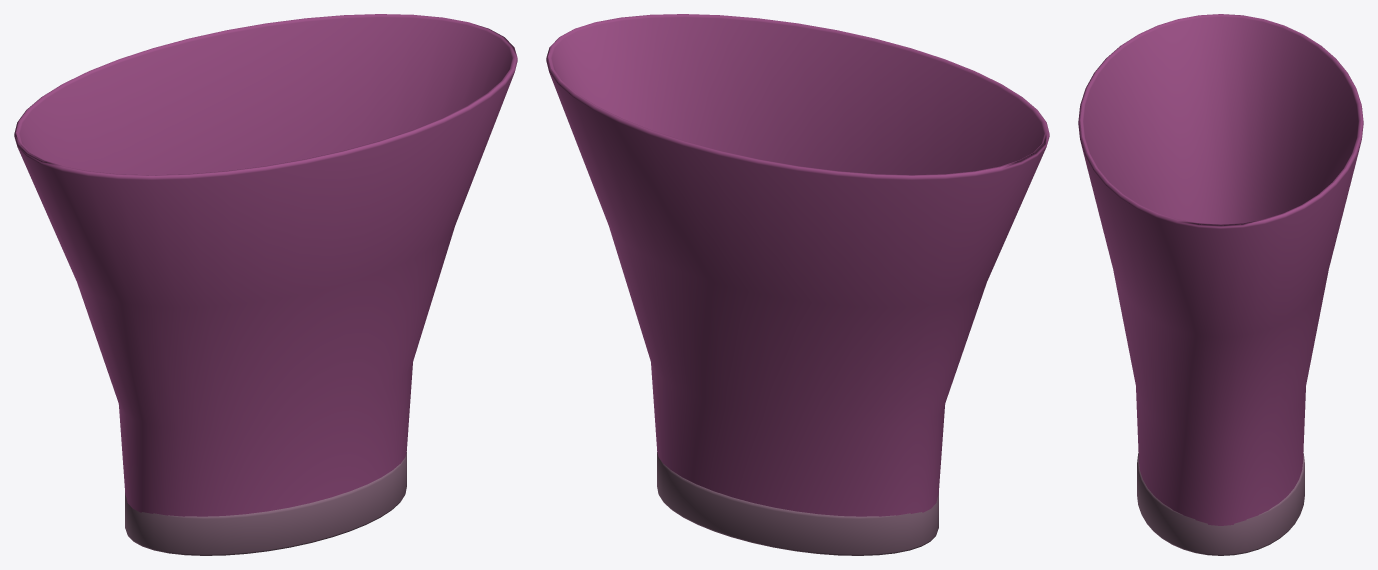
Rendered from falda-ra.glb.
The picture shows the model from 3 angles, left to right: view 1: azimuth 30°, elevation 25°; view 2: azimuth 150°, elevation 25°; view 3: azimuth 270°, elevation 25°; orthographic projection. The views are drawn at different scales.
Visible parts, largest first — view 1: A-line skirt panels, Skirt waistband; view 2: A-line skirt panels, Skirt waistband; view 3: A-line skirt panels, Skirt waistband.
Part boxes in pixels (left/top/right/bottom): A-line skirt panels: left=14, top=14, right=517, bottom=516; Skirt waistband: left=125, top=452, right=406, bottom=555; A-line skirt panels: left=546, top=14, right=1049, bottom=516; Skirt waistband: left=657, top=452, right=938, bottom=555; A-line skirt panels: left=1078, top=14, right=1363, bottom=525; Skirt waistband: left=1137, top=453, right=1304, bottom=555.
Size of the model in its own units: 0.7369 by 0.6115 by 0.4183.
